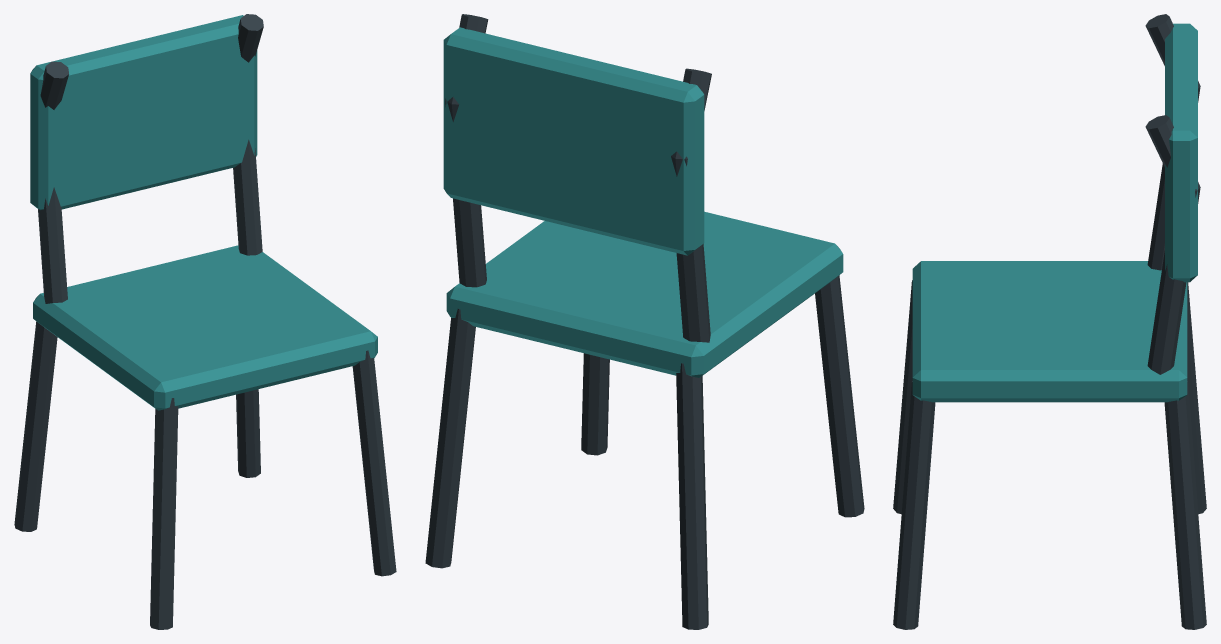
Rendered from Cafe_Chair.glb.
3 views of the same model, side by side, from view 1: azimuth 30°, elevation 25°; view 2: azimuth 150°, elevation 25°; view 3: azimuth 270°, elevation 25° (orthographic). The views are drawn at different scales.
Parts seen in each view (by area): view 1: Cafe_Chair; view 2: Cafe_Chair; view 3: Cafe_Chair.
Boxes of the visible parts, box(x1,y1,x2,y2) form: Cafe_Chair: box(14, 14, 396, 629); Cafe_Chair: box(425, 14, 864, 629); Cafe_Chair: box(893, 14, 1206, 629).
Size of the model in its own units: 0.5019 by 0.9256 by 0.5249.
